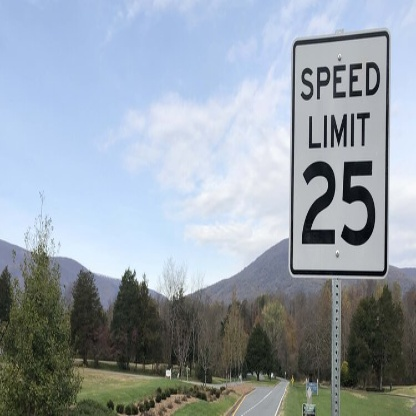limit1: (288, 28, 391, 281)
